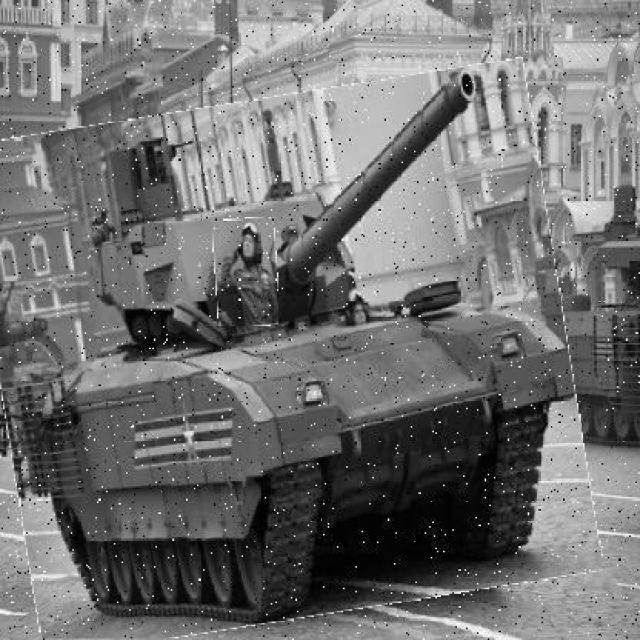Person: (215, 220, 279, 327)
Tank: (1, 78, 587, 639)
